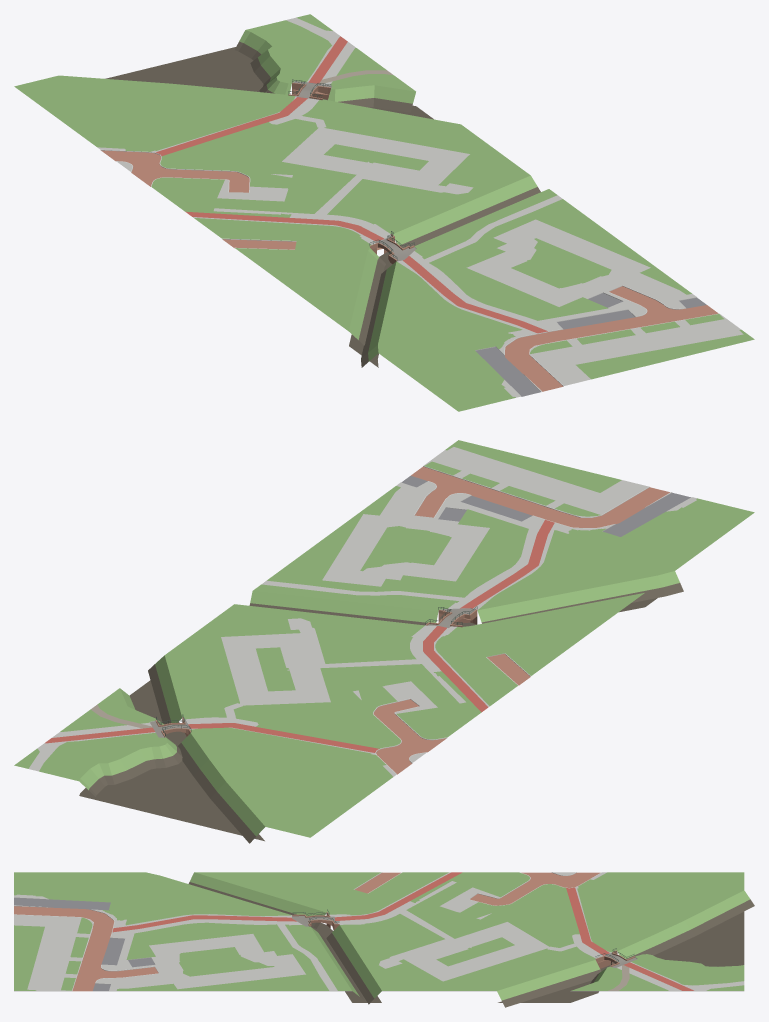
The model's file is ground_13_9.glb.
3 renders of one model, top to bottom at view 1: azimuth 30°, elevation 25°; view 2: azimuth 150°, elevation 25°; view 3: azimuth 270°, elevation 25°, orthographic. The views are drawn at different scales.
Parts seen in each view (by area): view 1: ground_13_9; view 2: ground_13_9; view 3: ground_13_9.
Part boxes in pixels (x1,y1,x2,y2): ground_13_9: (14, 14, 754, 411); ground_13_9: (14, 440, 754, 843); ground_13_9: (14, 872, 754, 1007).
Bounding box in the file's own units: 83.4 × 4.98 × 203.
